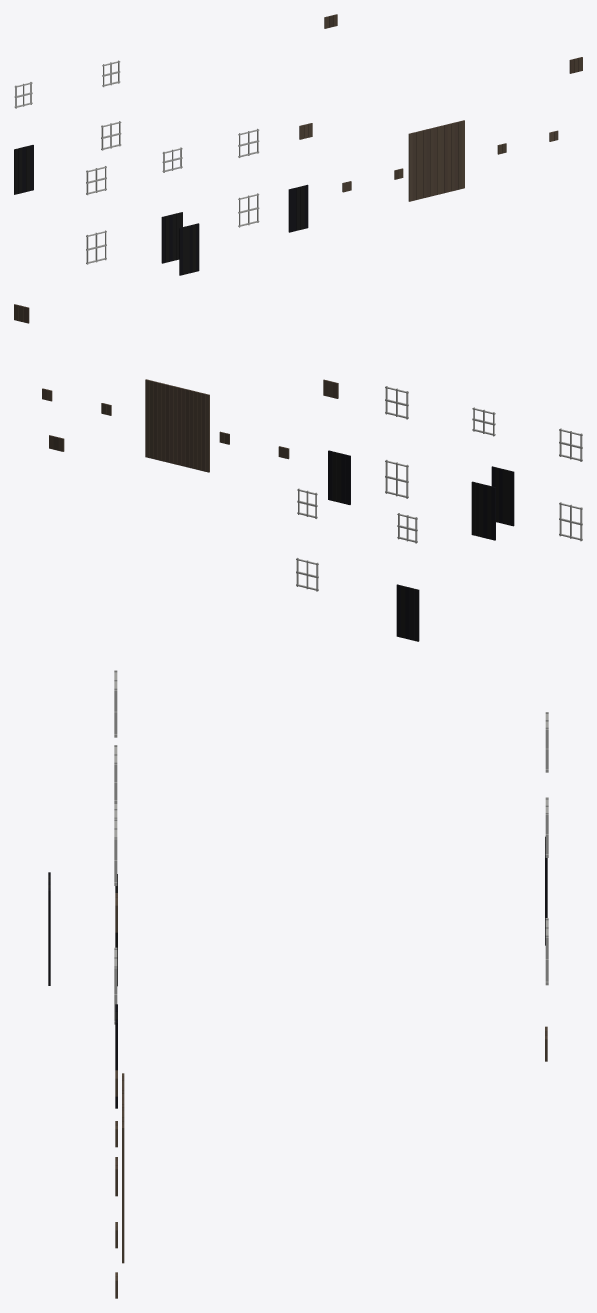
File: SM_Bld_112_Wood.glb
The picture shows the model from 3 angles, top to bottom: view 1: azimuth 30°, elevation 25°; view 2: azimuth 150°, elevation 25°; view 3: azimuth 270°, elevation 25°; orthographic projection. The views are drawn at different scales.
Parts seen in each view (by area): view 1: SM_Bld_112_Wood; view 2: SM_Bld_112_Wood; view 3: SM_Bld_112_Wood.
Boxes of the visible parts, <box> form: SM_Bld_112_Wood: <box>14,14,582,275</box>; SM_Bld_112_Wood: <box>14,304,582,641</box>; SM_Bld_112_Wood: <box>48,670,548,1298</box>.
Size of the model in its own units: 23.03 by 4.94 by 10.06.
